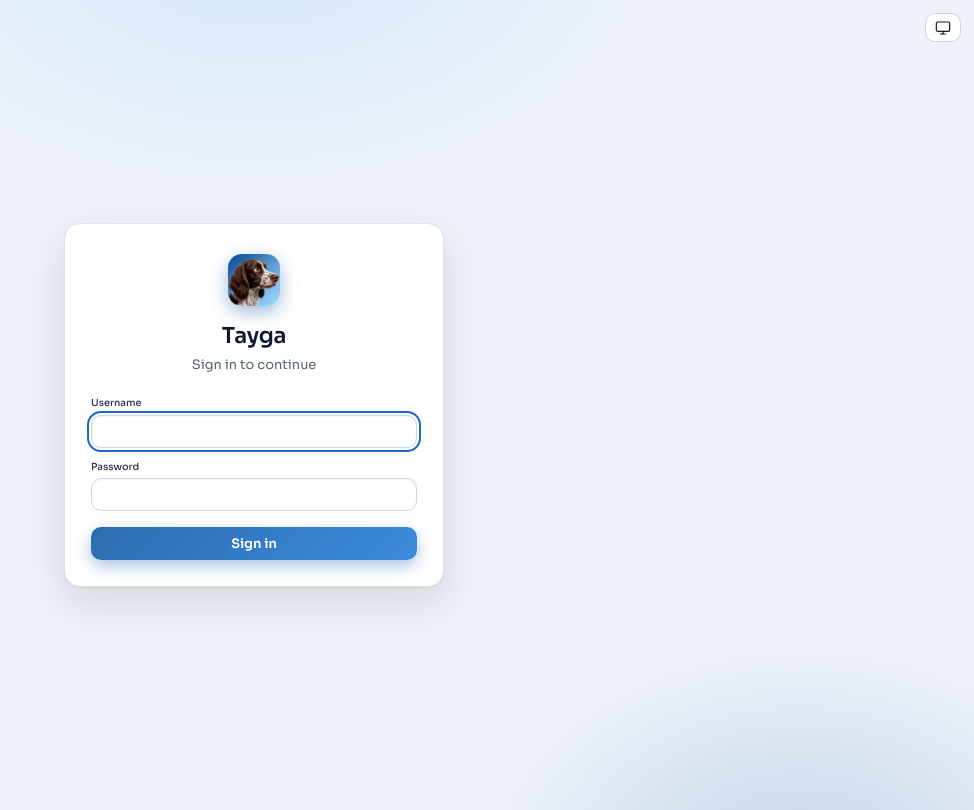
login › a 429 says when to try again from Retry-After
The image size is (974, 810).
expect the heading "Tayga" is shown: met, box [222,319,286,352]
Type "admin" into the field labelled "Username". click: (254,431)
box: [91,415,417,448]
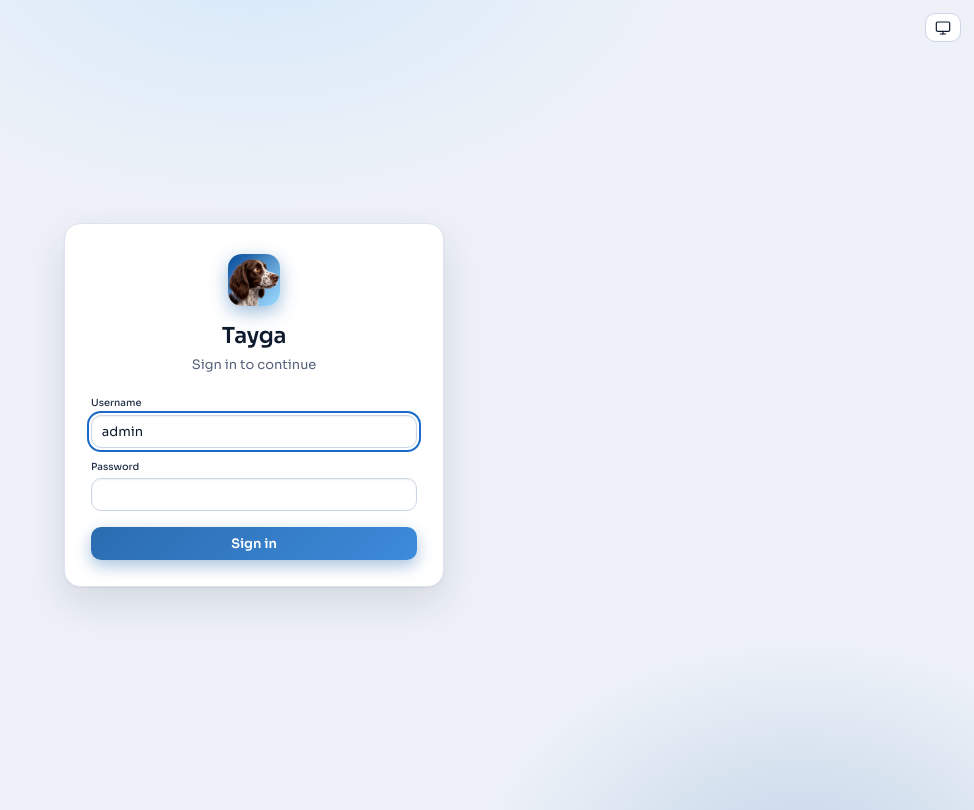
Type "x" into the password field labelled "Password". click: (254,495)
box: [91,478,417,511]
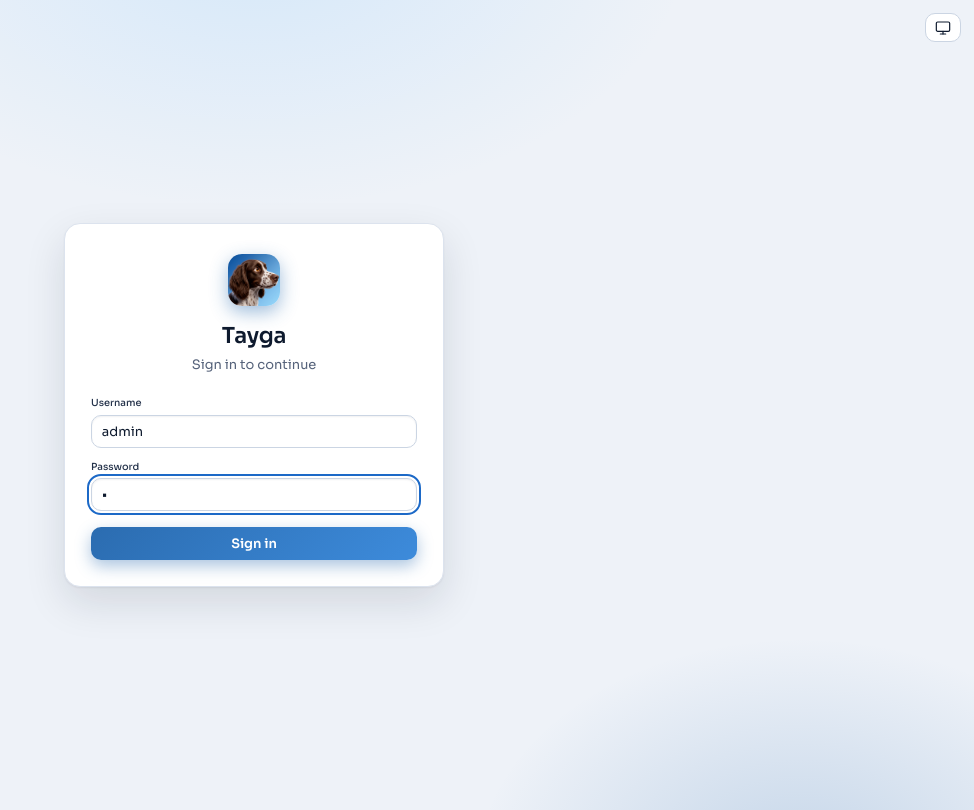
Click the button "Sign in". click: (254,543)
box: [91,527,417,560]
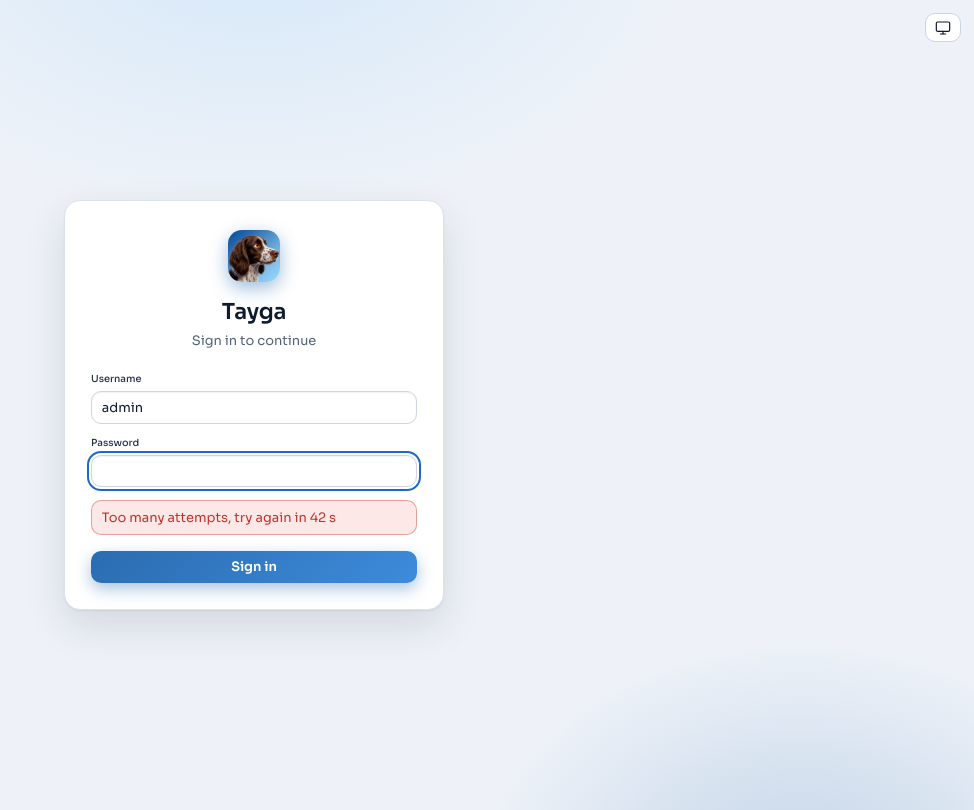
expect the message reads "Too many attempts, try again in 42 s": met, box [102,509,336,526]
